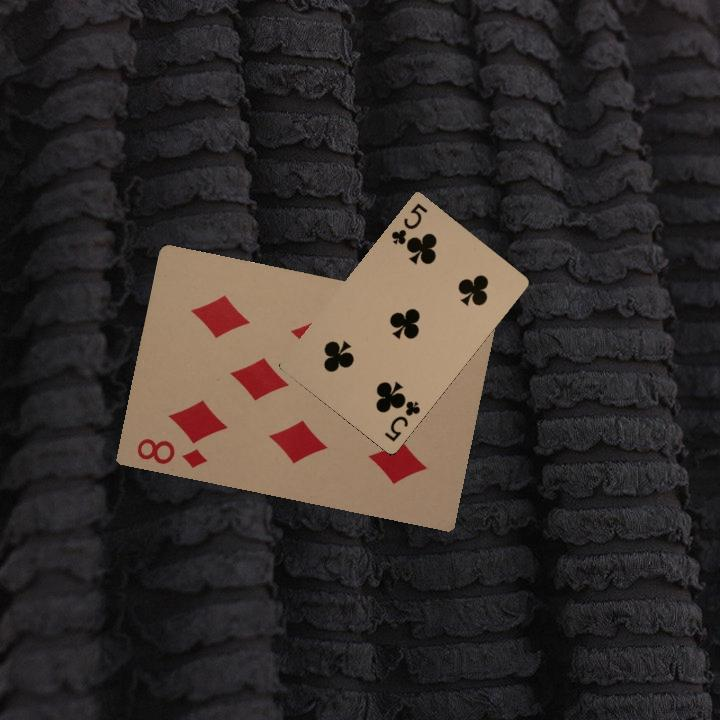5c: (380, 394, 423, 444), (387, 198, 430, 247)
8d: (133, 434, 210, 471)
